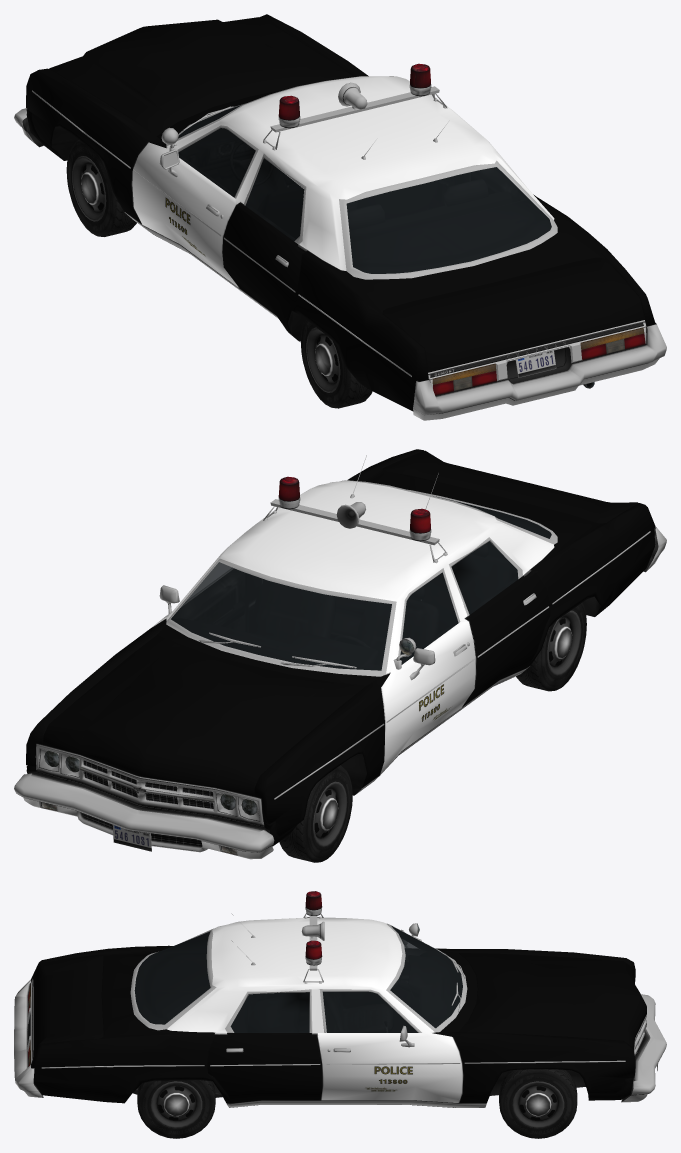
File: chapman_73_police.glb
3 views of the same model, one above another, from view 1: azimuth 30°, elevation 25°; view 2: azimuth 150°, elevation 25°; view 3: azimuth 270°, elevation 25° (orthographic). The views are drawn at different scales.
Parts seen in each view (by area): view 1: vehicle; view 2: vehicle; view 3: vehicle.
Part boxes in pixels (x1,y1,x2,y2): vehicle: (14,14,666,420); vehicle: (14,449,666,862); vehicle: (14,891,666,1138).
Bounding box in the file's own units: 2.12 × 1.69 × 5.67.
8 materials, 8 textured.
